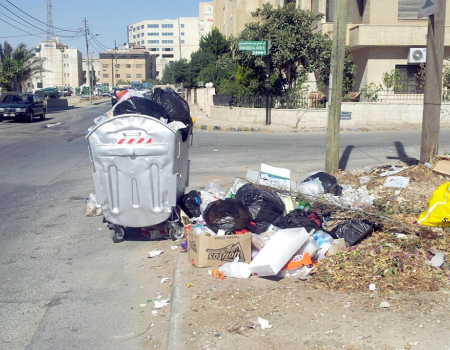trash_container: (86, 85, 202, 253)
